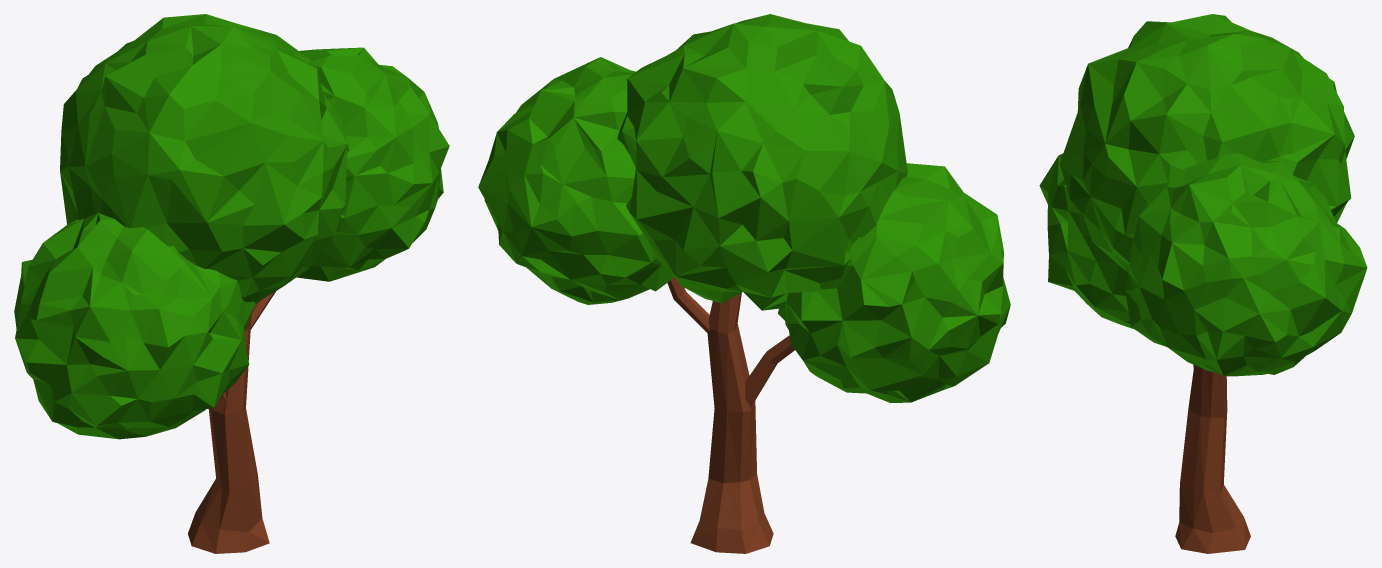
File: Tree_medium.glb
3 views of the same model, side by side, from view 1: azimuth 30°, elevation 25°; view 2: azimuth 150°, elevation 25°; view 3: azimuth 270°, elevation 25° (orthographic). The views are drawn at different scales.
Visible parts, largest first — view 1: Tree.2; view 2: Tree.2; view 3: Tree.2.
Boxes of the visible parts, bbox=[...] form: Tree.2: bbox=[14, 14, 449, 553]; Tree.2: bbox=[478, 14, 1010, 553]; Tree.2: bbox=[1039, 14, 1367, 553].
Bounding box in the file's own units: 6.01 × 6.51 × 3.92.
